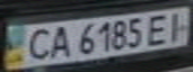1: (93, 19, 115, 53)
5: (124, 15, 148, 48)
6: (75, 20, 96, 56)
8: (109, 17, 130, 51)
A: (45, 22, 75, 58)
C: (18, 25, 54, 61)
E: (142, 11, 175, 46)
I: (163, 8, 193, 42)
